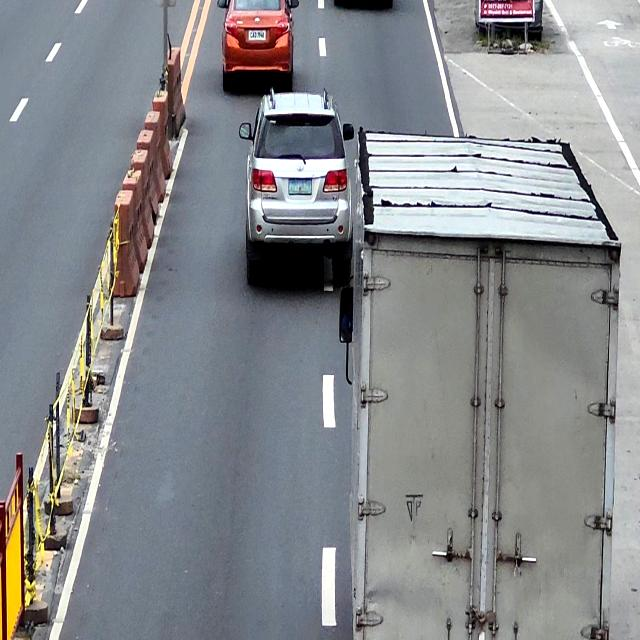Car: (239, 89, 354, 282), (219, 0, 298, 91)
License-Plate: (288, 178, 312, 195), (248, 29, 266, 41)
Truck: (342, 127, 622, 640)
